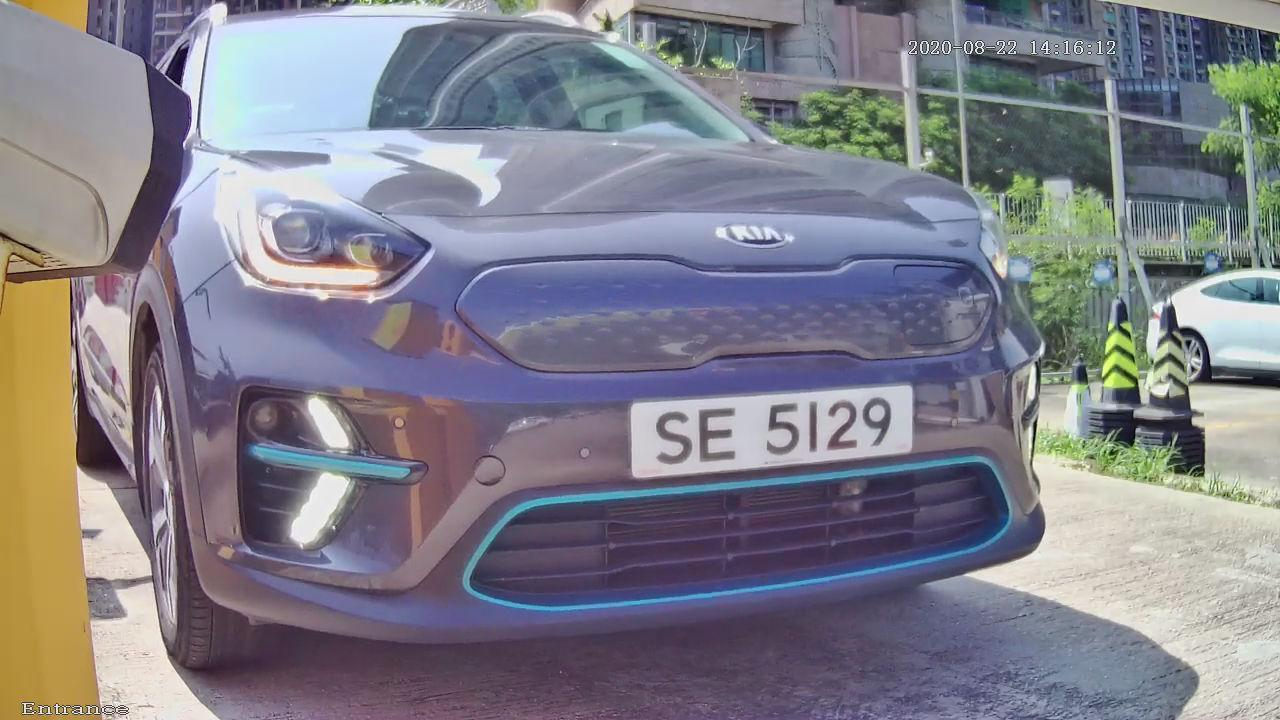License Plate: (612, 373, 926, 486)
